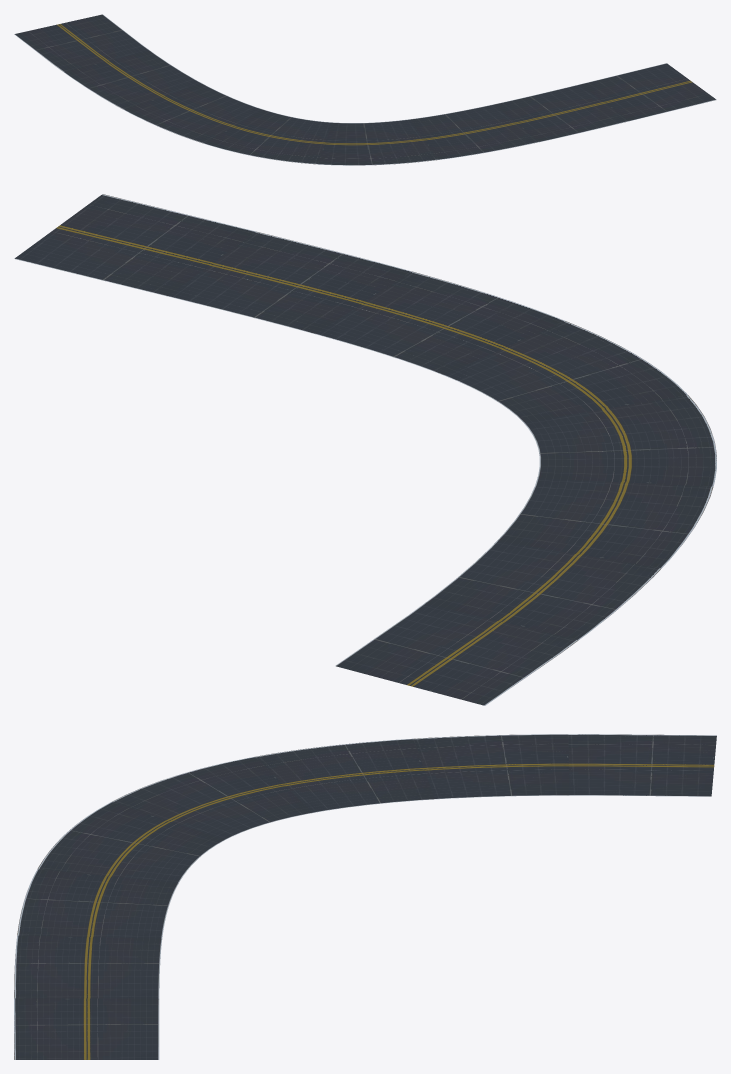
Rendered from LoiRe.fbx.
3 renders of one model, top to bottom at view 1: azimuth 30°, elevation 25°; view 2: azimuth 150°, elevation 25°; view 3: azimuth 270°, elevation 25°, orthographic. The views are drawn at different scales.
Visible parts, largest first — view 1: Plane; view 2: Plane; view 3: Plane.
Boxes of the visible parts, x1=… form: Plane: x1=14, y1=14, x2=716, y2=165; Plane: x1=14, y1=194, x2=716, y2=705; Plane: x1=14, y1=734, x2=716, y2=1059.
Size of the model in its own units: 1061 by 0.000208 by 968.
Materials: 1 (1 with a texture image).
